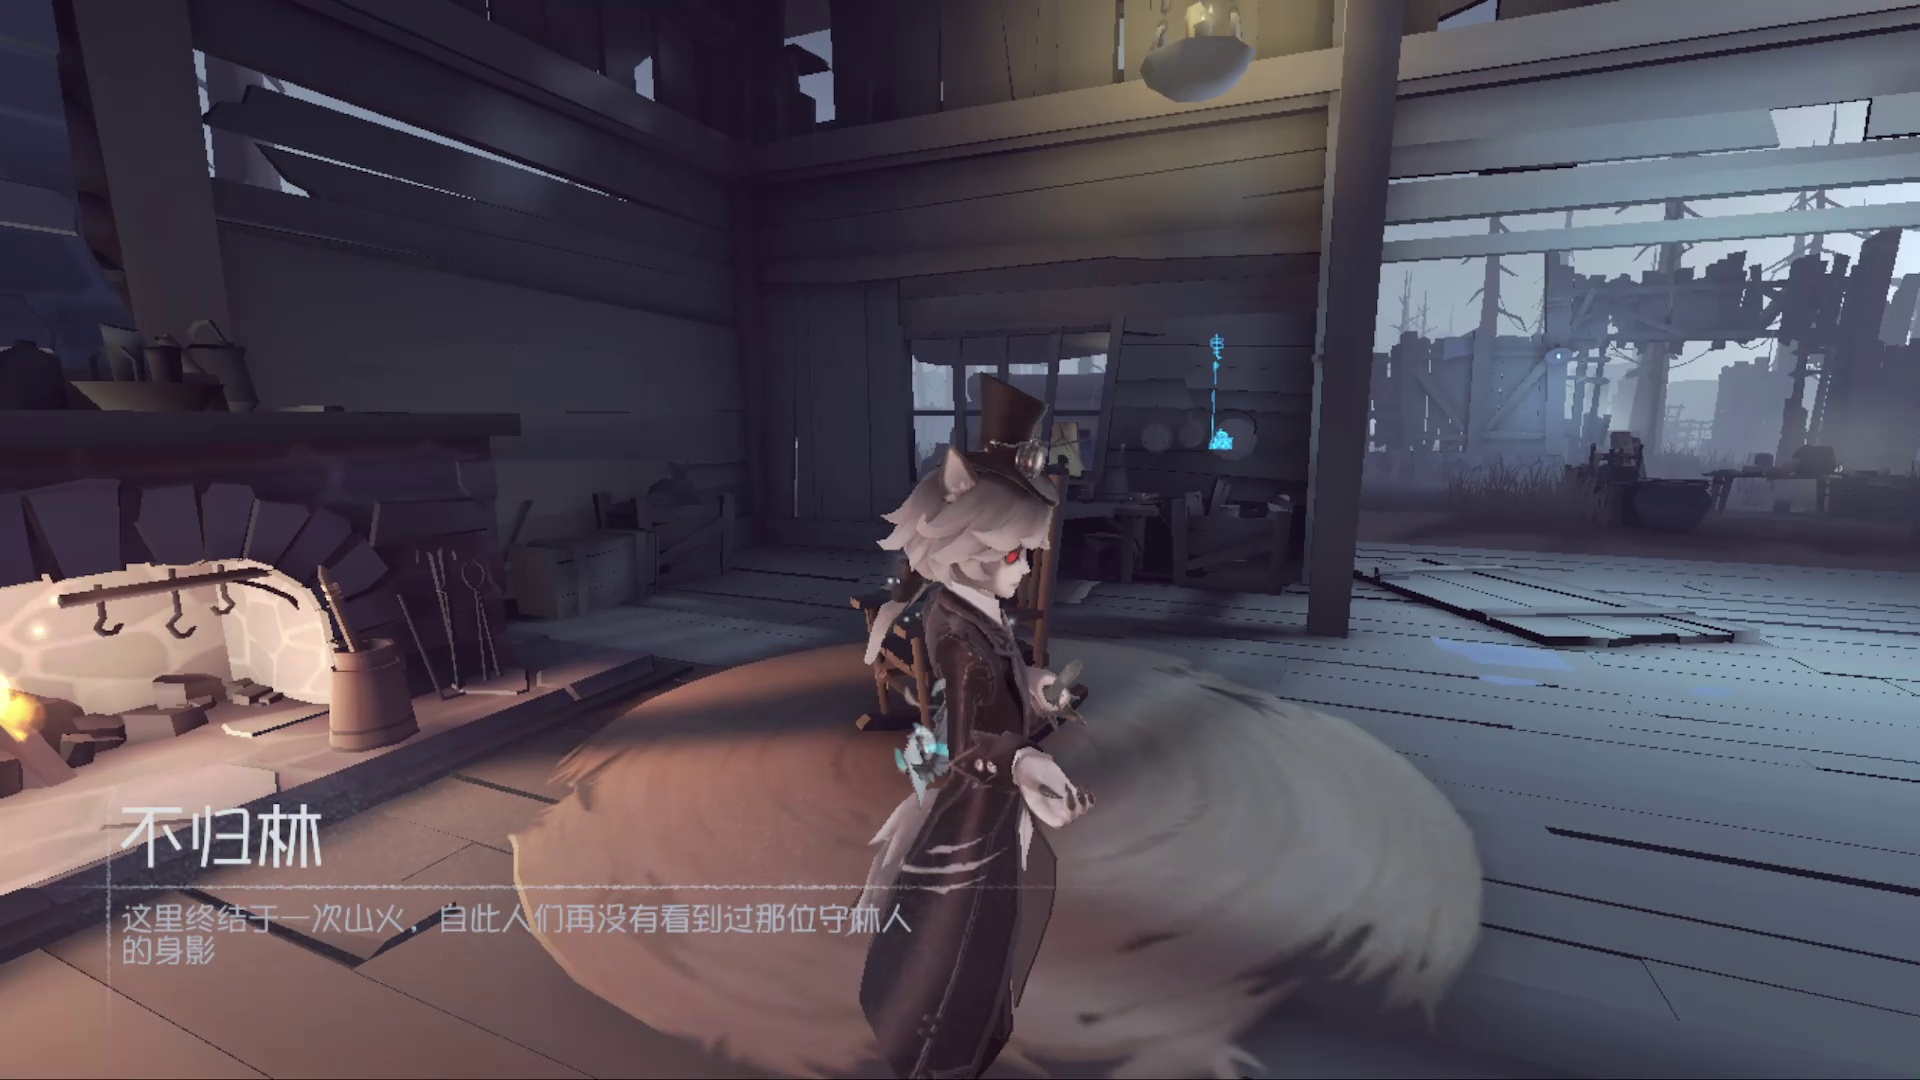密码机: (1195, 305, 1261, 477)
